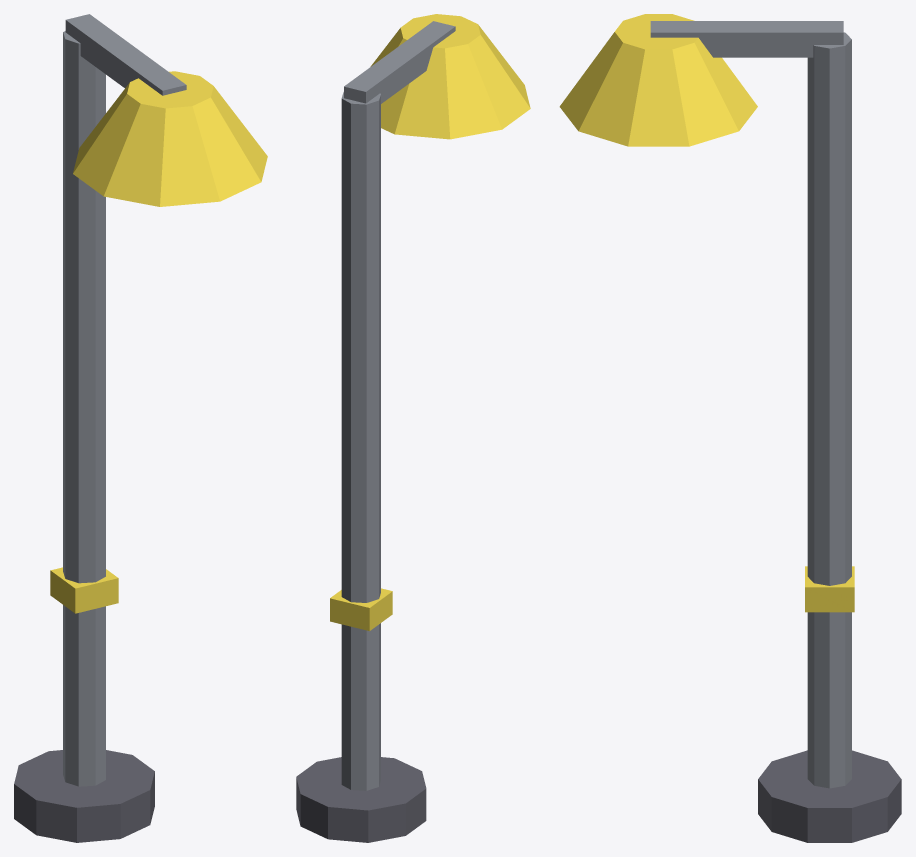
Rendered from lamp.glb.
3 views of the same model, side by side, from view 1: azimuth 30°, elevation 25°; view 2: azimuth 150°, elevation 25°; view 3: azimuth 270°, elevation 25° (orthographic). The views are drawn at different scales.
Visible parts, largest first — view 1: lamp; view 2: lamp; view 3: lamp.
Part boxes in pixels (x1,y1,x2,y2): lamp: [14, 14, 267, 842]; lamp: [296, 14, 530, 842]; lamp: [559, 14, 901, 842].
Size of the model in its own units: 0.6848 by 3.15 by 1.24.
